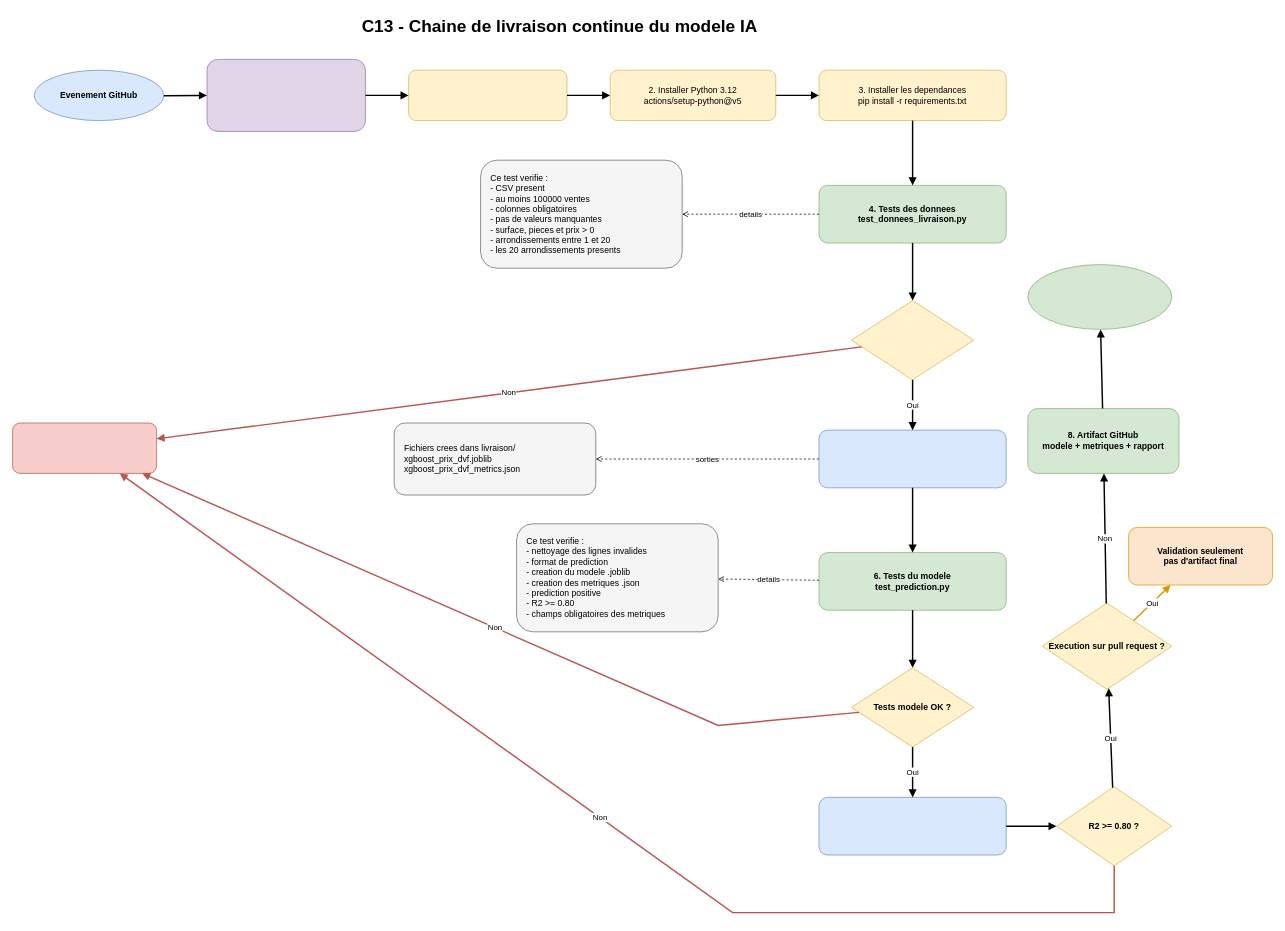
This 1285x931 diagram has some shape labels left out. Each missing label, with the box of its shape:
1. Recuperer le projet actions/checkout@v4: (408, 69, 567, 121)
5. Entrainer XGBoost entrainement_xgboost_prix.py: (818, 429, 1006, 488)
7. Generer le rapport generer_rapport_livraison_modele.py: (818, 797, 1006, 855)
Arret de la chaine pas de livraison: (12, 422, 157, 473)
Declencheurs push main pull request main lancement manuel: (206, 59, 365, 131)
Donnees valides ?: (851, 300, 974, 380)
Modele livrable chaine C13 terminee: (1027, 264, 1172, 329)
